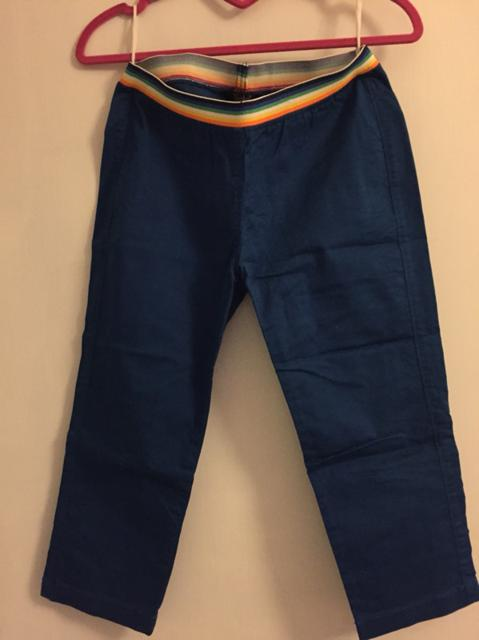Pants_Leggings: (41, 51, 479, 639)
